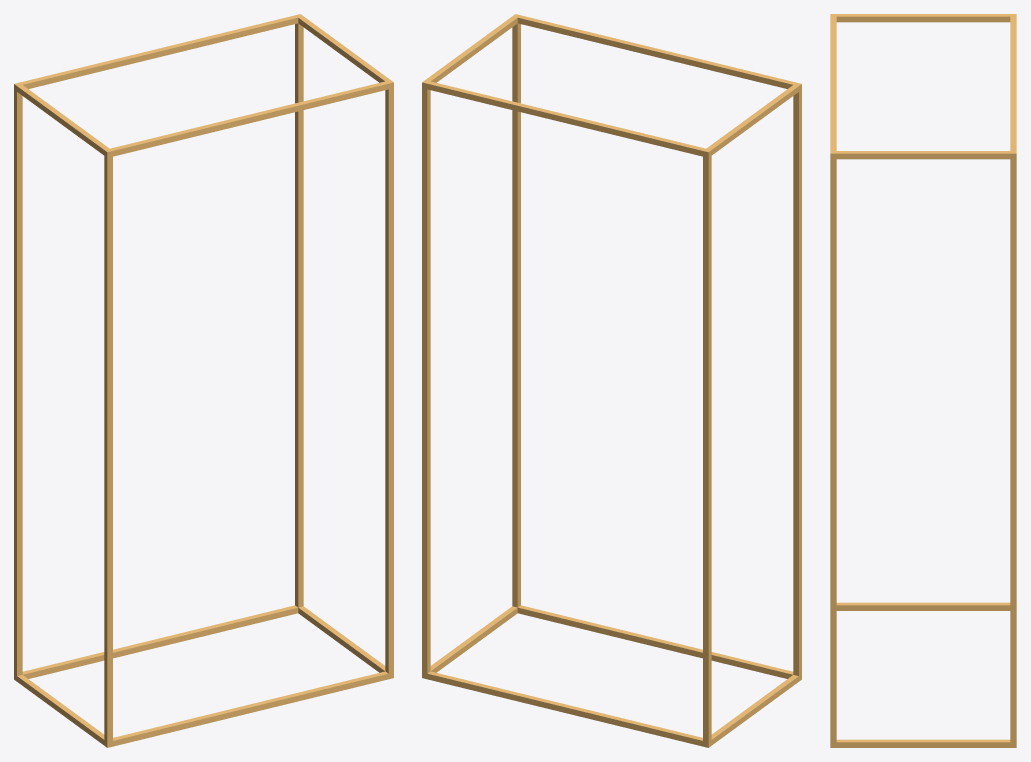
The model's file is pants.glb.
3 renders of one model, left to right at view 1: azimuth 30°, elevation 25°; view 2: azimuth 150°, elevation 25°; view 3: azimuth 270°, elevation 25°, orthographic.
Visible parts, largest first — view 1: box_0; view 2: box_0; view 3: box_0.
Boxes of the visible parts, bbox=[...] form: box_0: bbox=[14, 14, 393, 747]; box_0: bbox=[422, 14, 801, 747]; box_0: bbox=[830, 14, 1016, 747].
Size of the model in its own units: 0.5246 by 1.04 by 0.2964.
